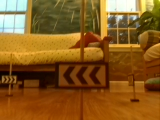left: (55, 63, 110, 89)
right: (1, 75, 16, 83)
